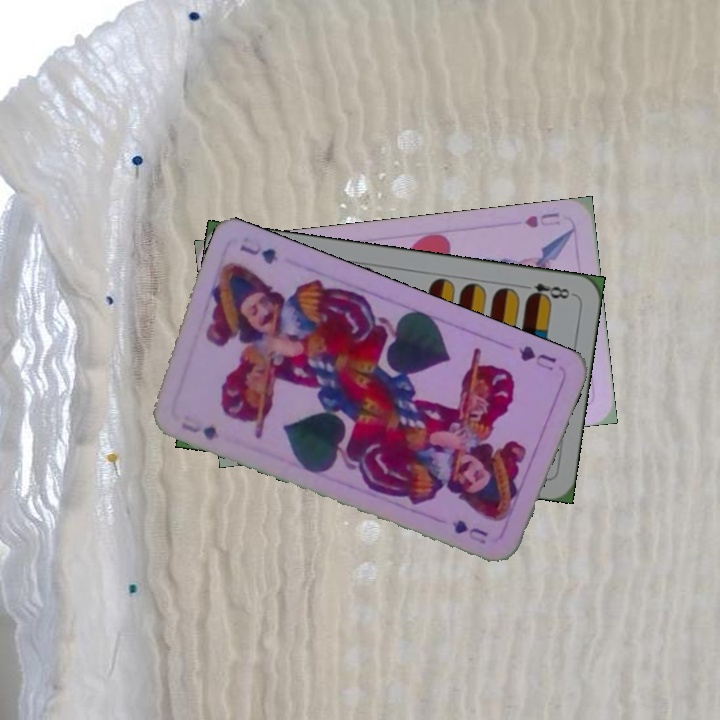E8: (517, 279, 576, 304)
GU: (514, 341, 559, 374), (177, 418, 222, 443)
HU: (520, 208, 562, 231)
